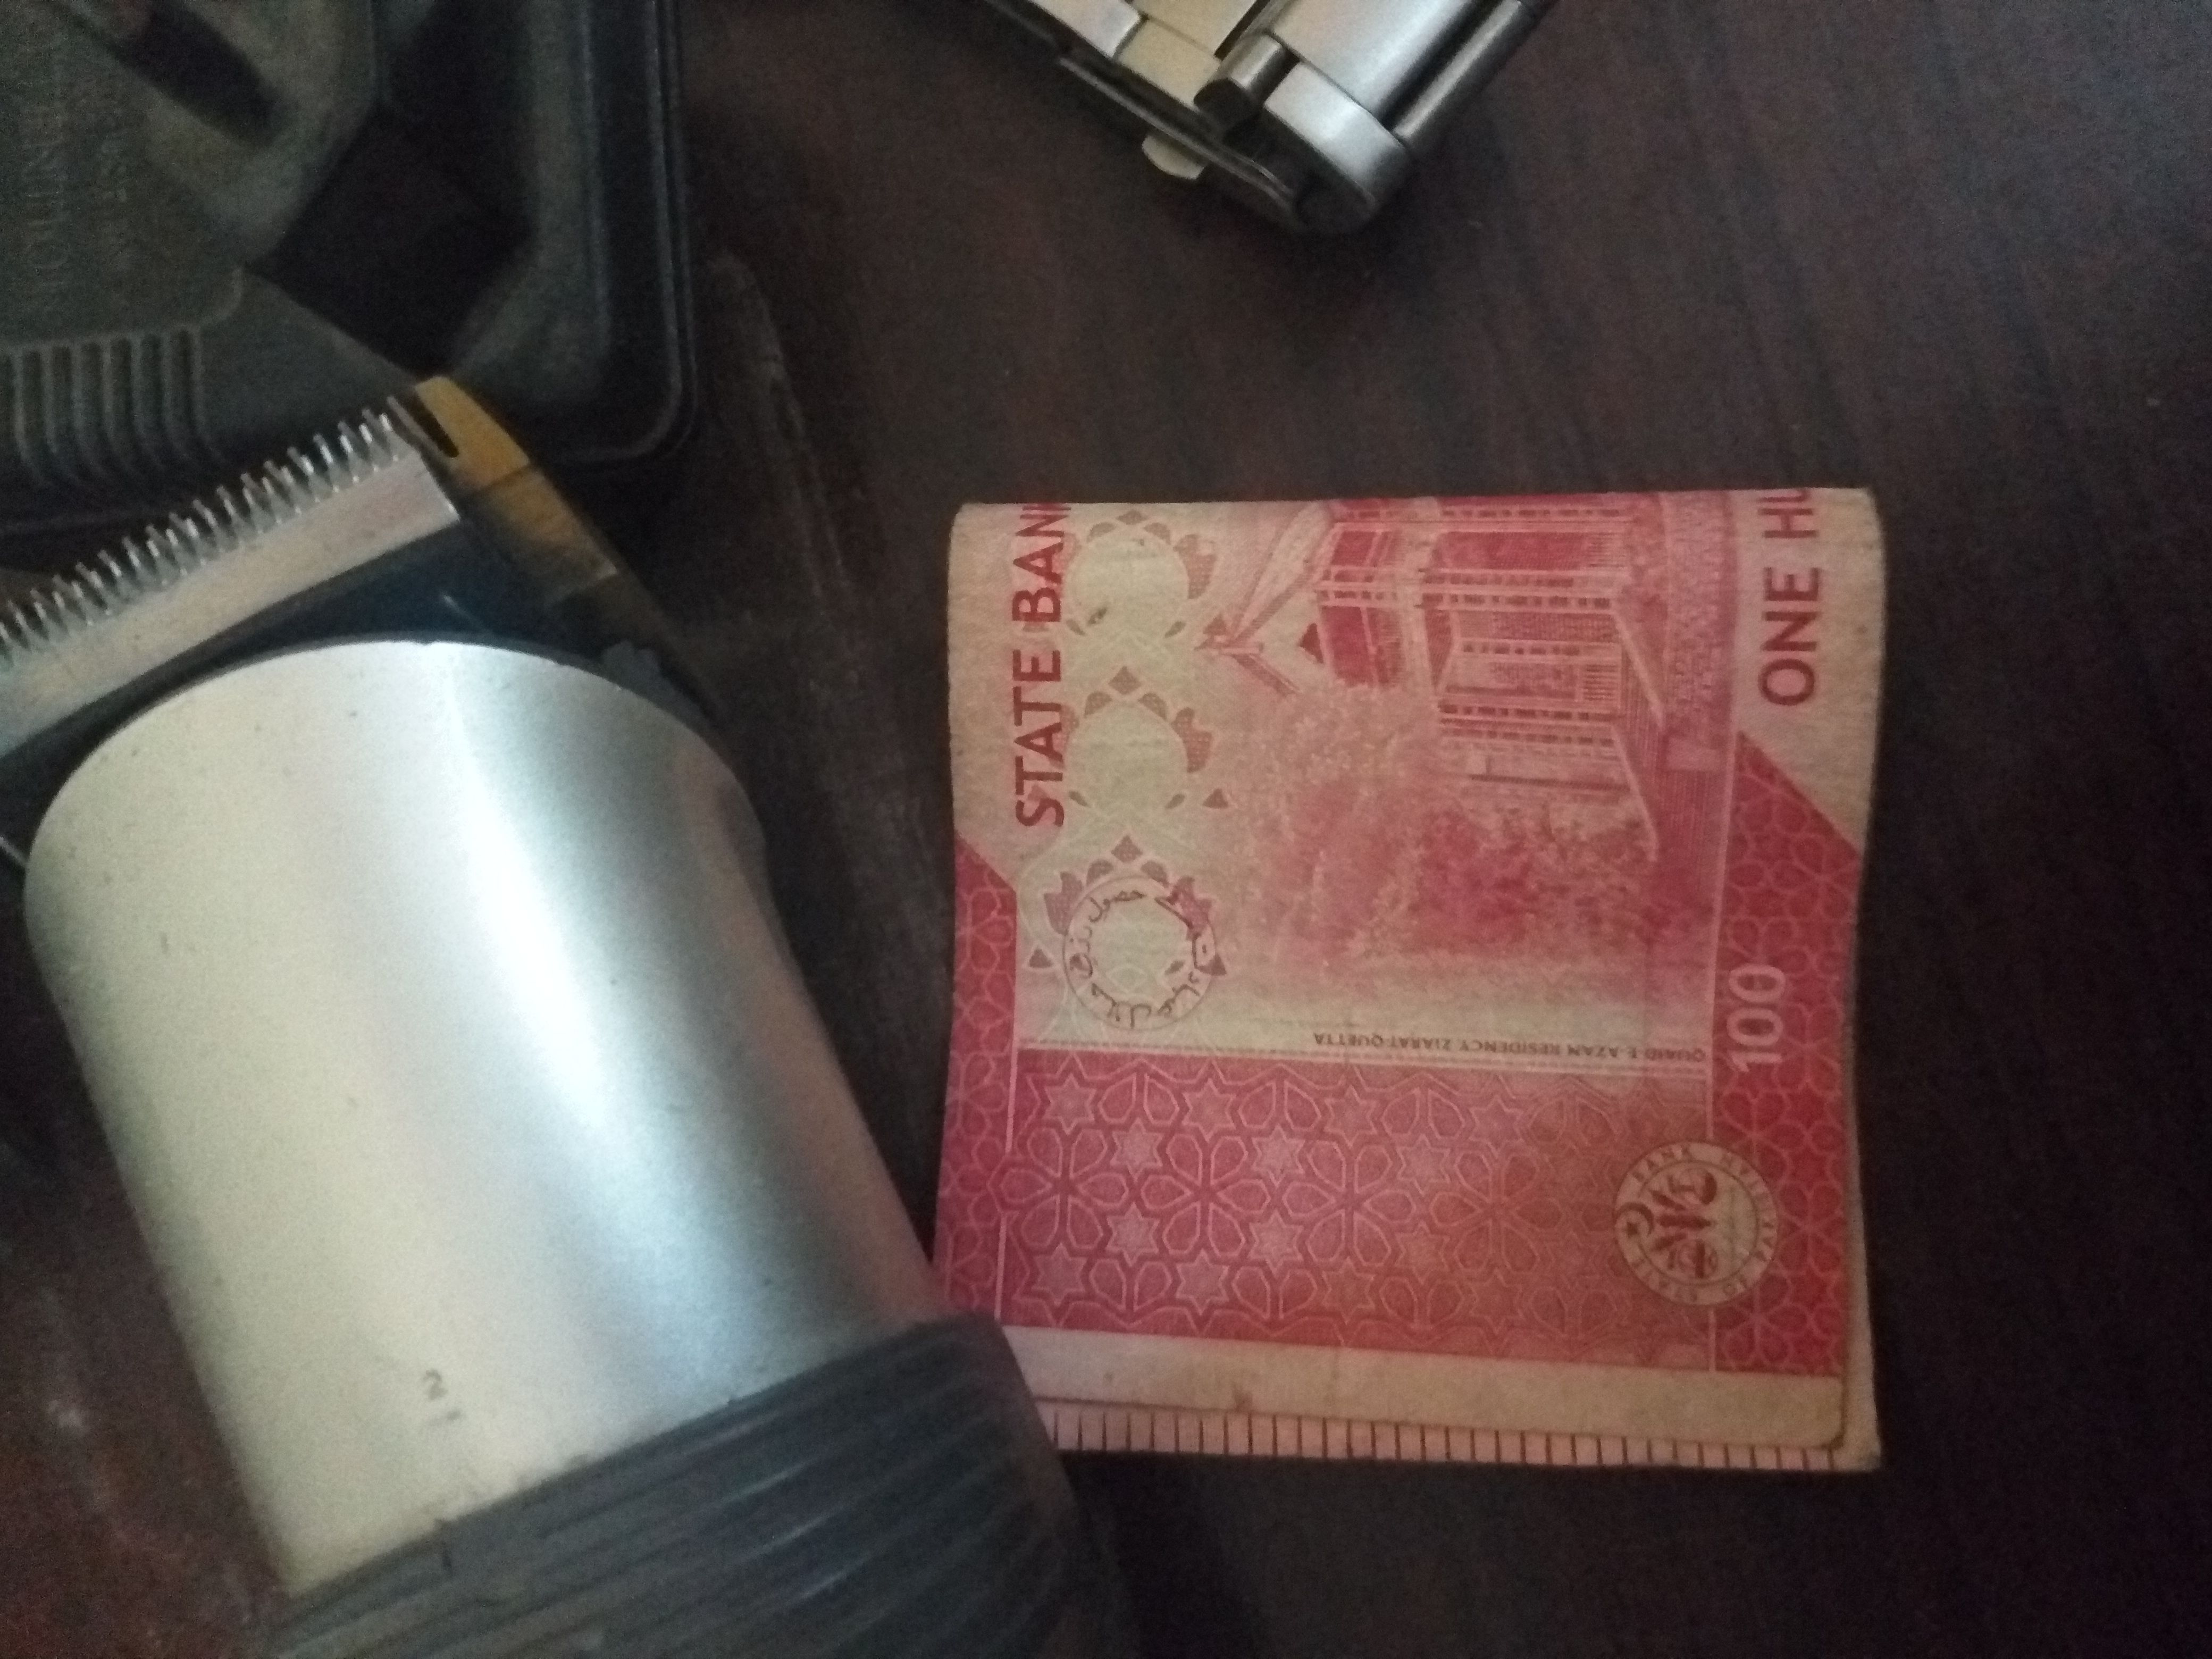100 rupee: (786, 410, 2034, 1542)
